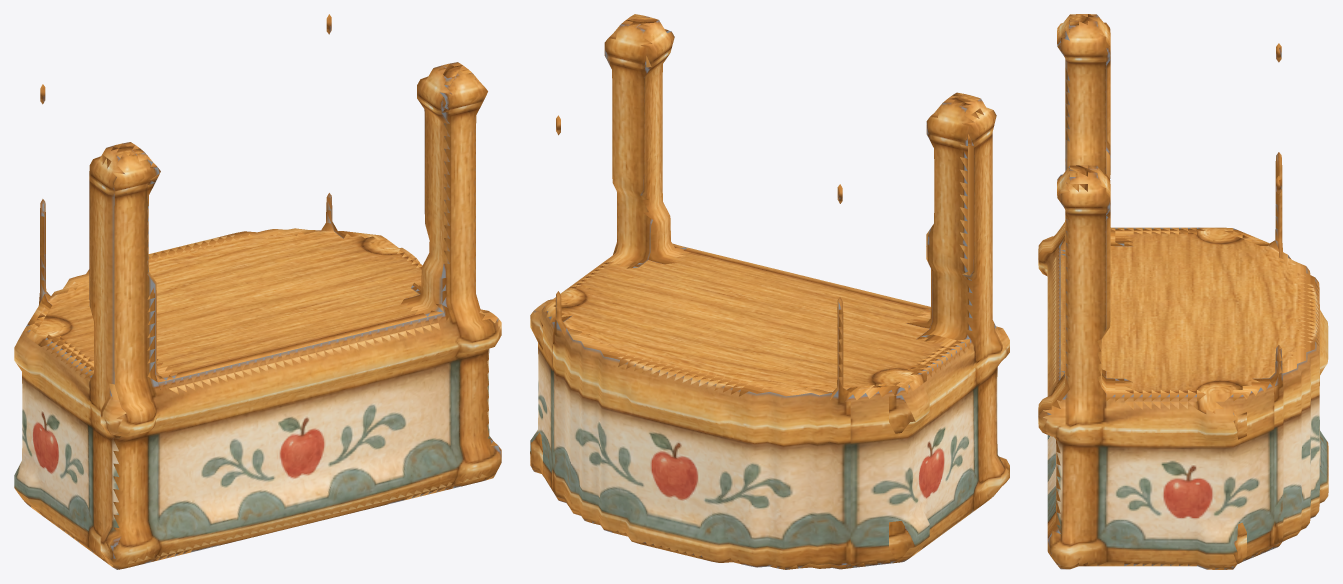
File: stall-frame.glb
The picture shows the model from 3 angles, left to right: view 1: azimuth 30°, elevation 25°; view 2: azimuth 150°, elevation 25°; view 3: azimuth 270°, elevation 25°; orthographic projection. The views are drawn at different scales.
Size of the model in its own units: 1.01 by 1 by 0.68.
Materials: 1 (1 with a texture image).
